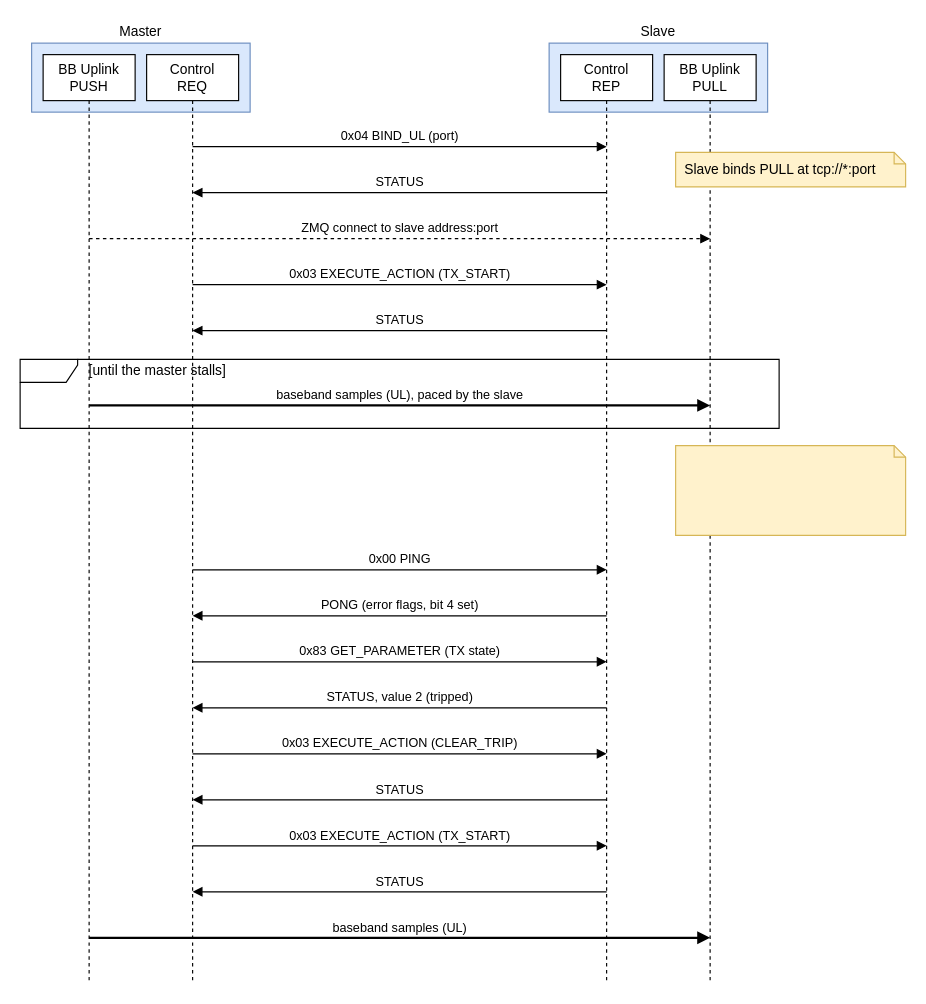
Some shapes in this 926 by 1004 pixel diagram are drawn without their labels. Each missing label, with the box of its shape:
loop: (19, 358, 779, 428)
UL underrun: ramp down, unkey, TX state = tripped, error flag bit 4 set: (674, 444, 906, 535)
